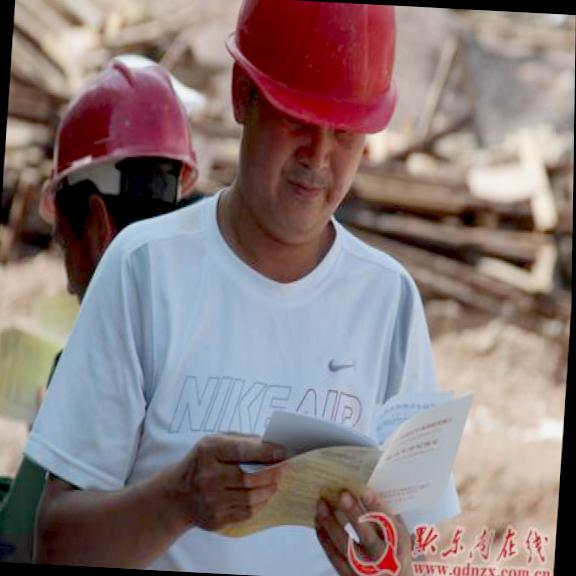safety_vest: (24, 212, 456, 574)
